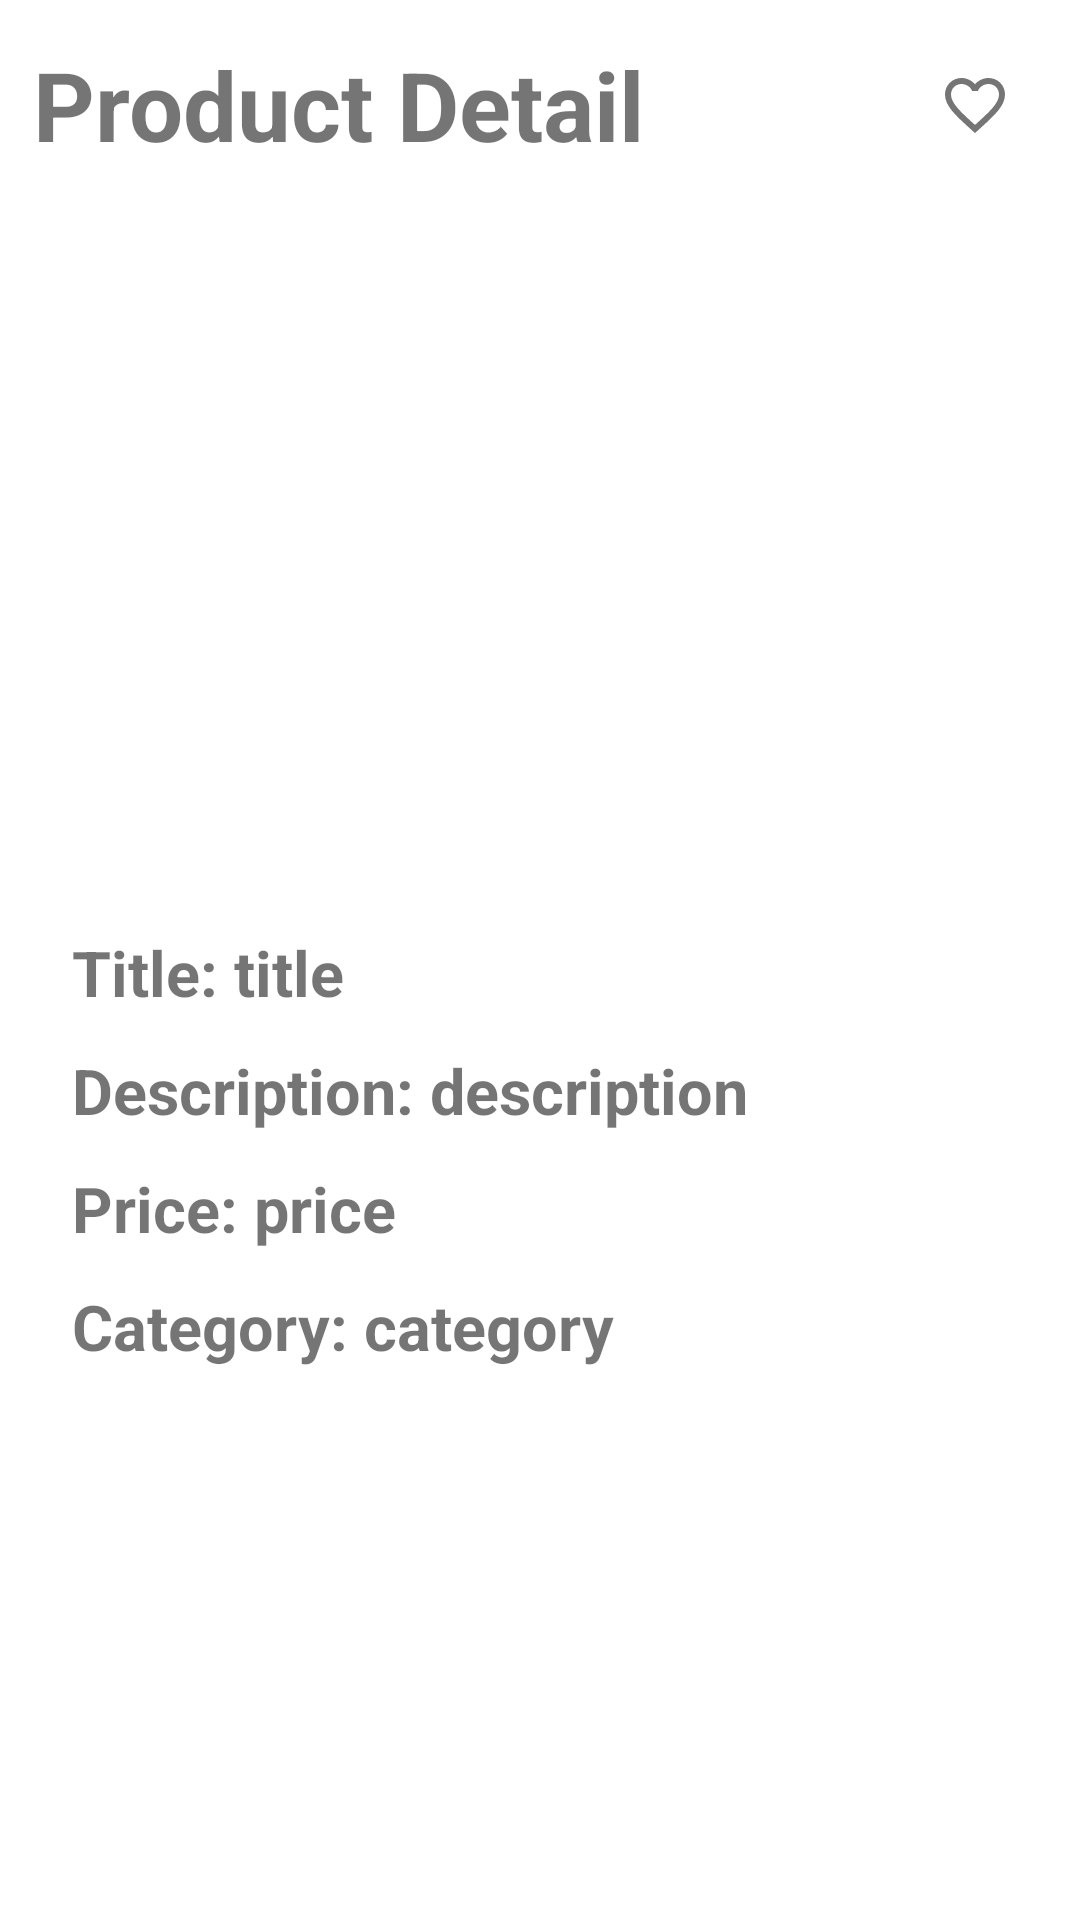

Named icons in this screenshot (1080w x 1920h) and their bounding boxes, [x1,y1,x2,y2]:
Favorite: [945,78,1005,133]
